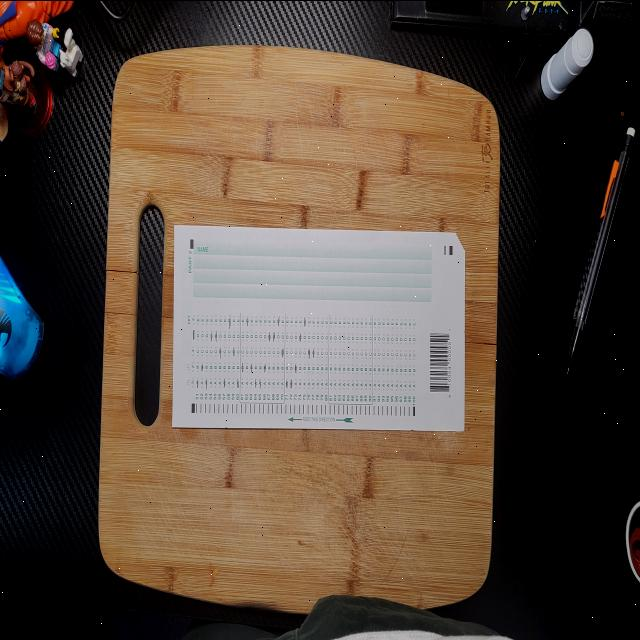scantron_back: (172, 223, 466, 430)
